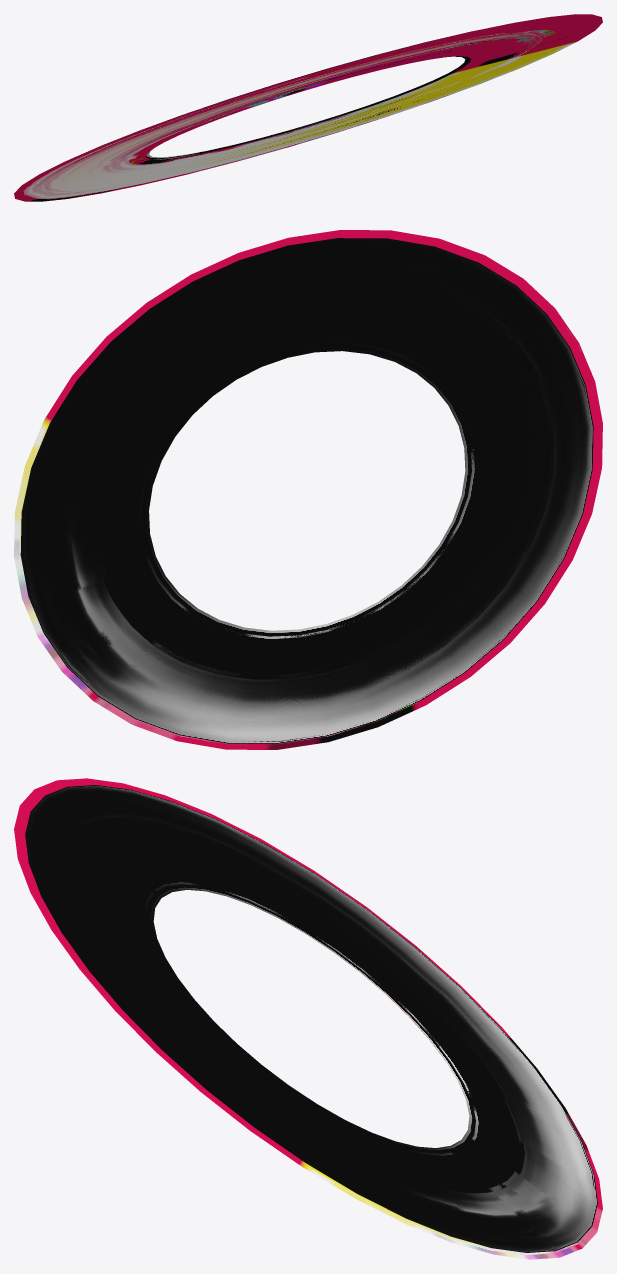
The model's file is fx_cookie0134_skill002.fbx.
3 renders of one model, top to bottom at view 1: azimuth 30°, elevation 25°; view 2: azimuth 150°, elevation 25°; view 3: azimuth 270°, elevation 25°, orthographic. The views are drawn at different scales.
Parts seen in each view (by area): view 1: att02_back (5), att02_back (4); view 2: att02_back (4), att02_back (5); view 3: att02_back (4), att02_back (5).
Boxes of the visible parts, x1,y1,x2,y2 form: att02_back (5): (14, 14, 602, 201); att02_back (4): (81, 31, 473, 159); att02_back (4): (20, 238, 593, 743); att02_back (5): (14, 230, 602, 749); att02_back (4): (25, 785, 597, 1252); att02_back (5): (14, 778, 602, 1259).
Bounding box in the file's own units: 767 × 440 × 628.
